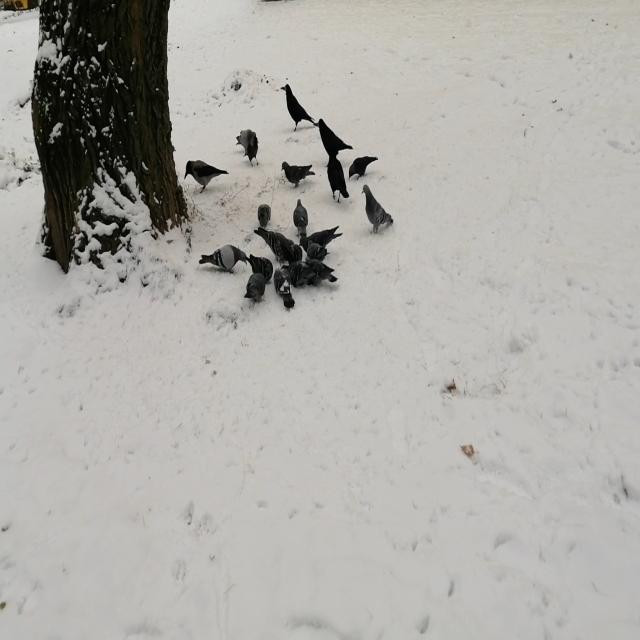bird: (281, 84, 315, 132), (360, 184, 393, 233), (315, 119, 352, 160), (185, 160, 228, 193), (200, 244, 246, 271), (256, 226, 288, 262), (326, 156, 349, 203), (281, 160, 314, 190), (304, 255, 337, 284), (273, 267, 295, 310), (248, 254, 274, 281), (245, 274, 266, 304), (293, 198, 308, 237), (236, 128, 257, 146), (307, 242, 327, 260), (248, 137, 258, 167), (258, 205, 271, 228)
